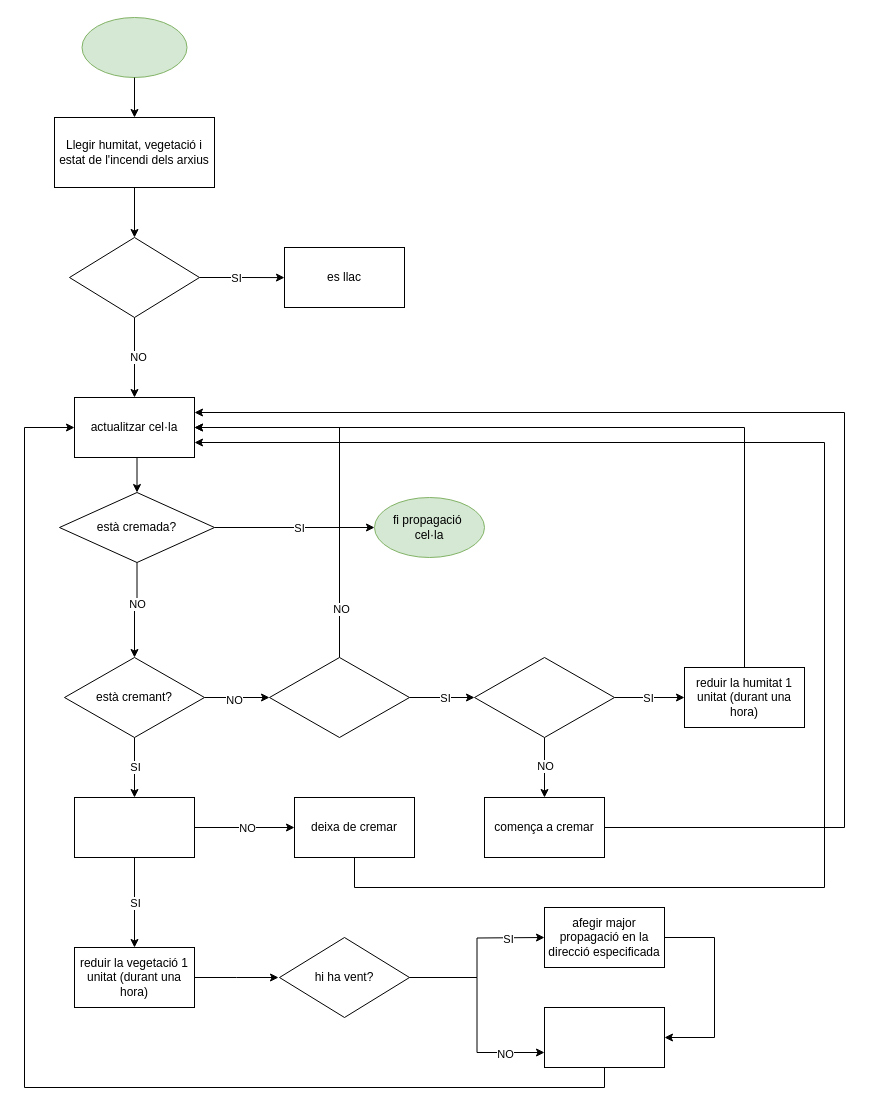
This 870x1113 diagram has some shape labels left out. Each missing label, with the centre of its shape:
inici propagació cel·la: the point at 134,47
propagar incendi: the point at 604,1037
té alguna casella adjacent cremant?: the point at 339,697
té humitat infinita?: the point at 134,277
té humitat?: the point at 544,697
té vegetació?: the point at 134,827
